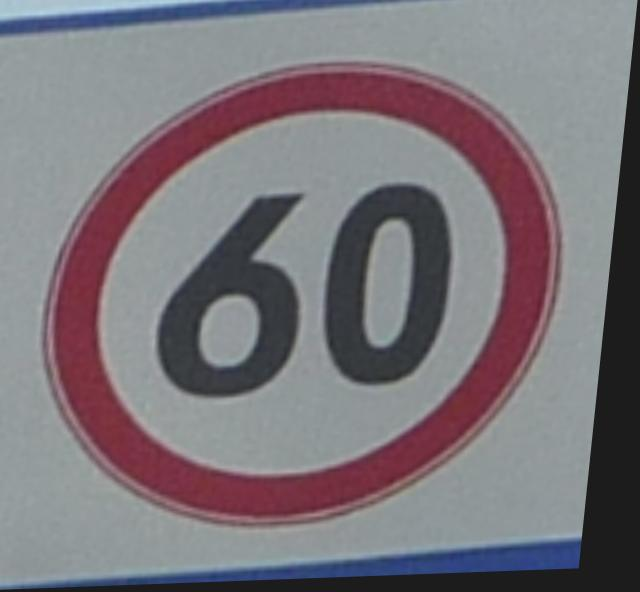limit60: (12, 35, 600, 555)
